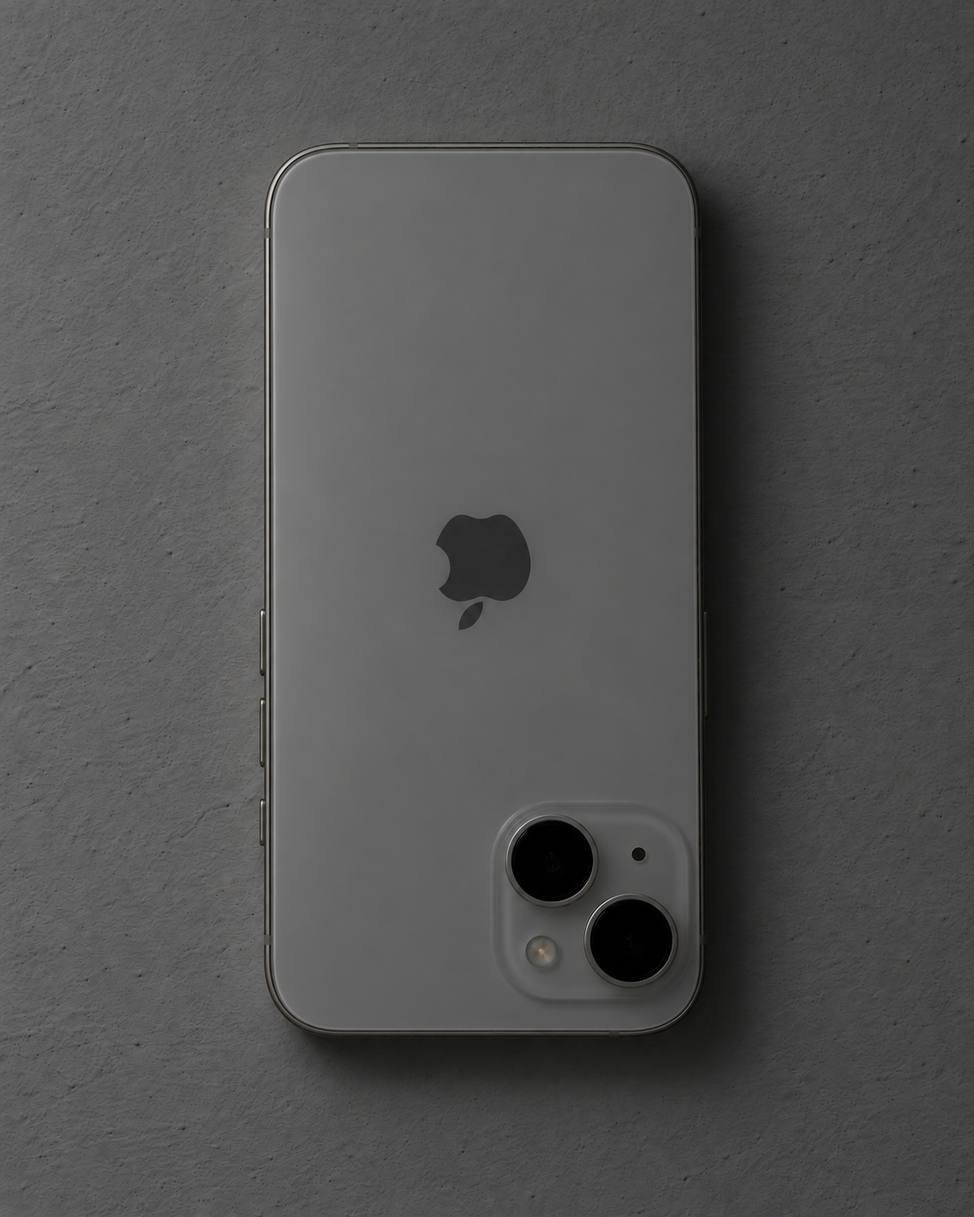iphone_14_white: (193, 122, 789, 1089), (482, 800, 701, 1023)
